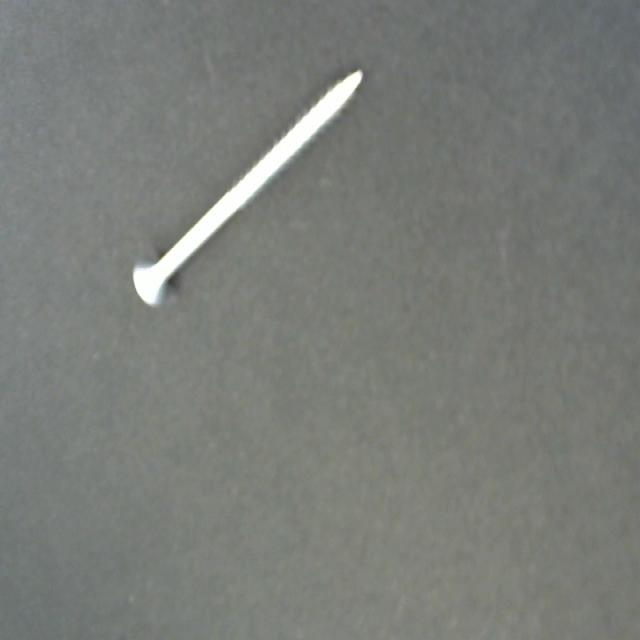WoodScrew: (125, 62, 367, 335)
